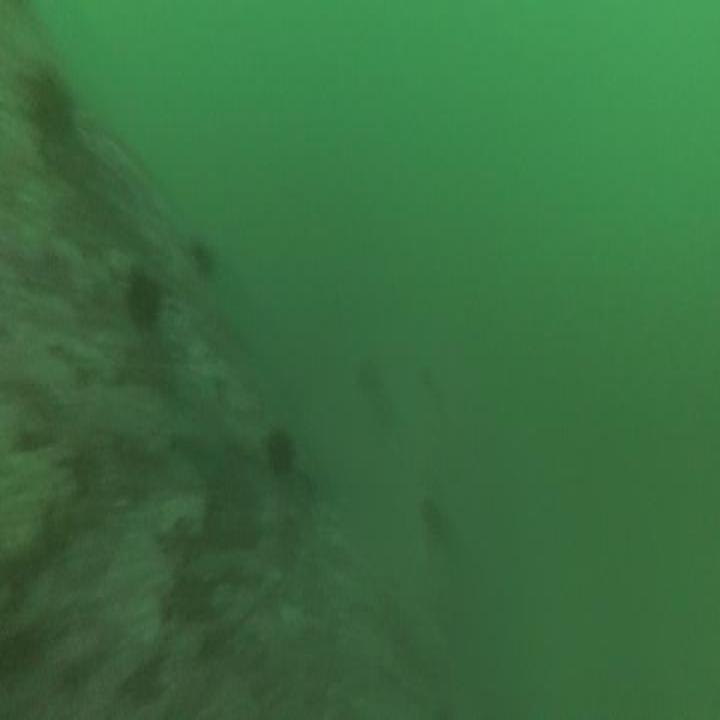echinus: (31, 66, 74, 144), (127, 272, 160, 324), (264, 423, 291, 469)
